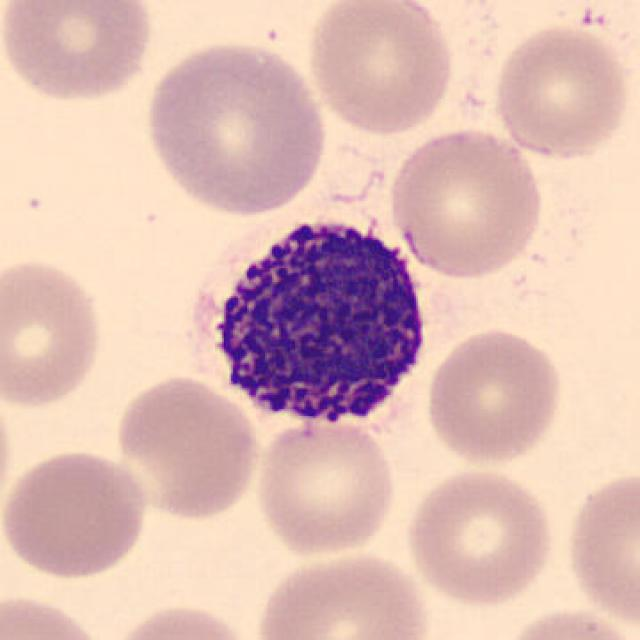Basophil: (183, 201, 443, 443)
RBC: (138, 36, 332, 220), (384, 124, 548, 282), (110, 370, 263, 524), (400, 464, 560, 610), (302, 0, 459, 138), (251, 416, 400, 559), (0, 446, 153, 582), (422, 323, 566, 467), (489, 21, 633, 162), (250, 546, 433, 640), (0, 253, 108, 412), (0, 0, 158, 106), (560, 464, 640, 633), (103, 599, 261, 640), (0, 589, 110, 640), (494, 604, 638, 640), (0, 378, 18, 534)
